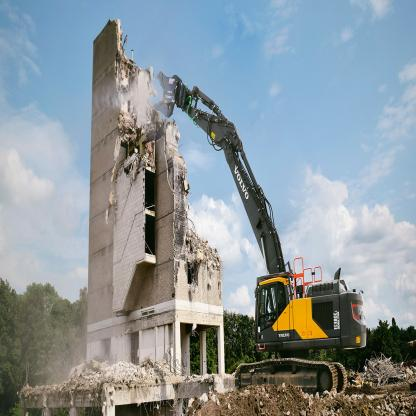excavator: (151, 51, 384, 395)
